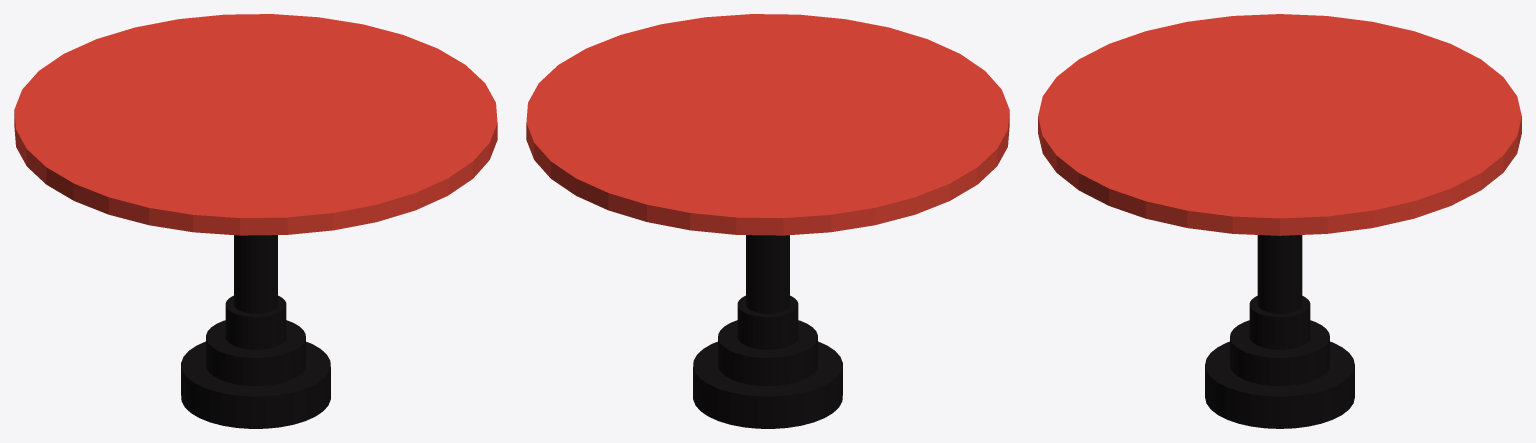
File: Table.fbx
3 views of the same model, side by side, from view 1: azimuth 30°, elevation 25°; view 2: azimuth 150°, elevation 25°; view 3: azimuth 270°, elevation 25° (orthographic).
Parts seen in each view (by area): view 1: Cylinder; view 2: Cylinder; view 3: Cylinder.
Part boxes in pixels (bbox=[...]): Cylinder: bbox=[14, 14, 497, 428]; Cylinder: bbox=[526, 14, 1009, 428]; Cylinder: bbox=[1038, 14, 1521, 428].
Bounding box in the file's own units: 645 × 414 × 645.
